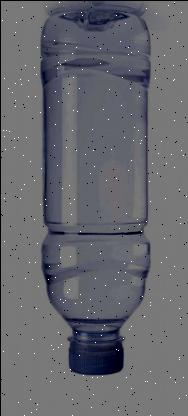Plastic Bottle: (29, 10, 155, 382)
